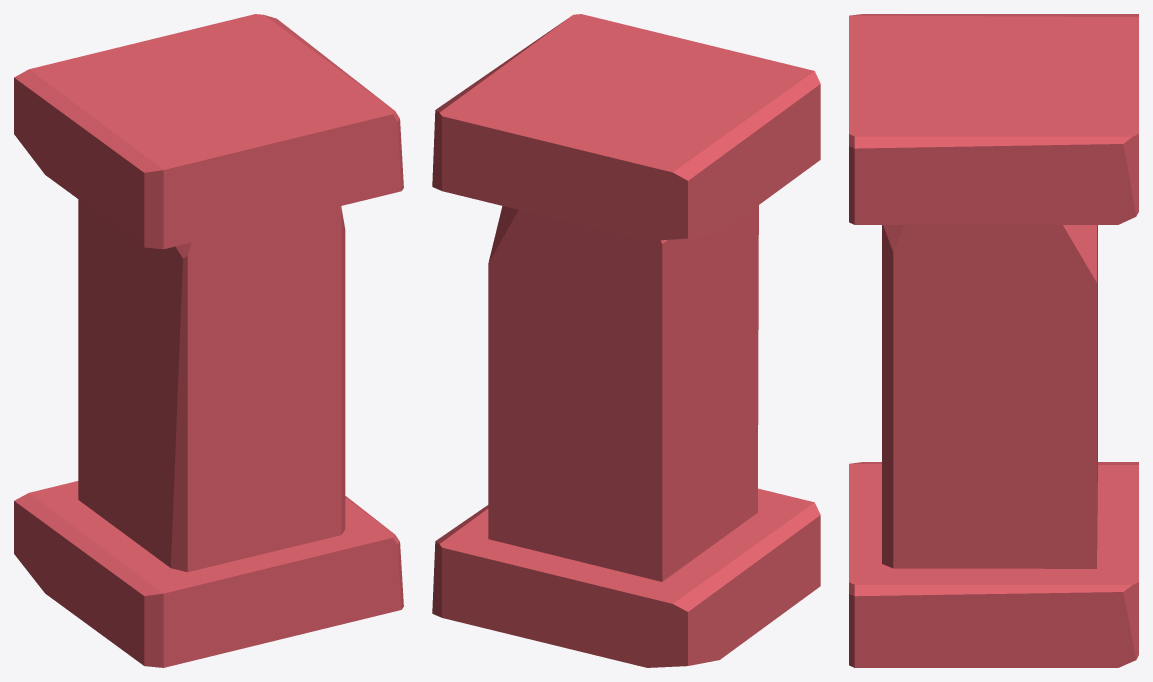
The model's file is WolfdenPillarSmall.fbx.
3 renders of one model, left to right at view 1: azimuth 30°, elevation 25°; view 2: azimuth 150°, elevation 25°; view 3: azimuth 270°, elevation 25°, orthographic. The views are drawn at different scales.
Visible parts, largest first — view 1: Cube.059; view 2: Cube.059; view 3: Cube.059.
Boxes of the visible parts, x1,y1,x2,y2 form: Cube.059: [14, 14, 403, 667]; Cube.059: [432, 14, 820, 667]; Cube.059: [849, 14, 1138, 667].
Bounding box in the file's own units: 298 × 555 × 277.
